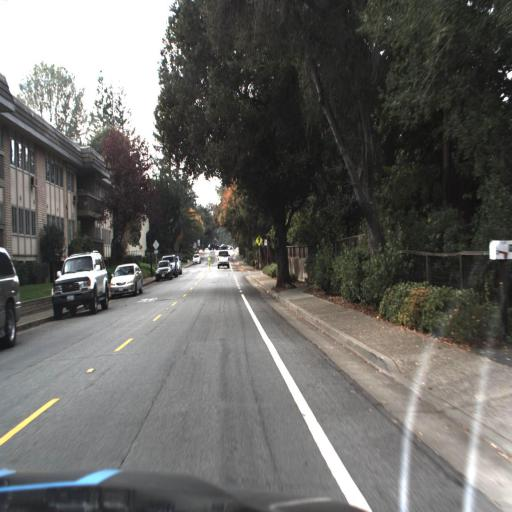car: (50, 247, 112, 316), (50, 249, 109, 320), (0, 237, 23, 357), (109, 262, 142, 299), (215, 245, 231, 272), (154, 258, 172, 279)
